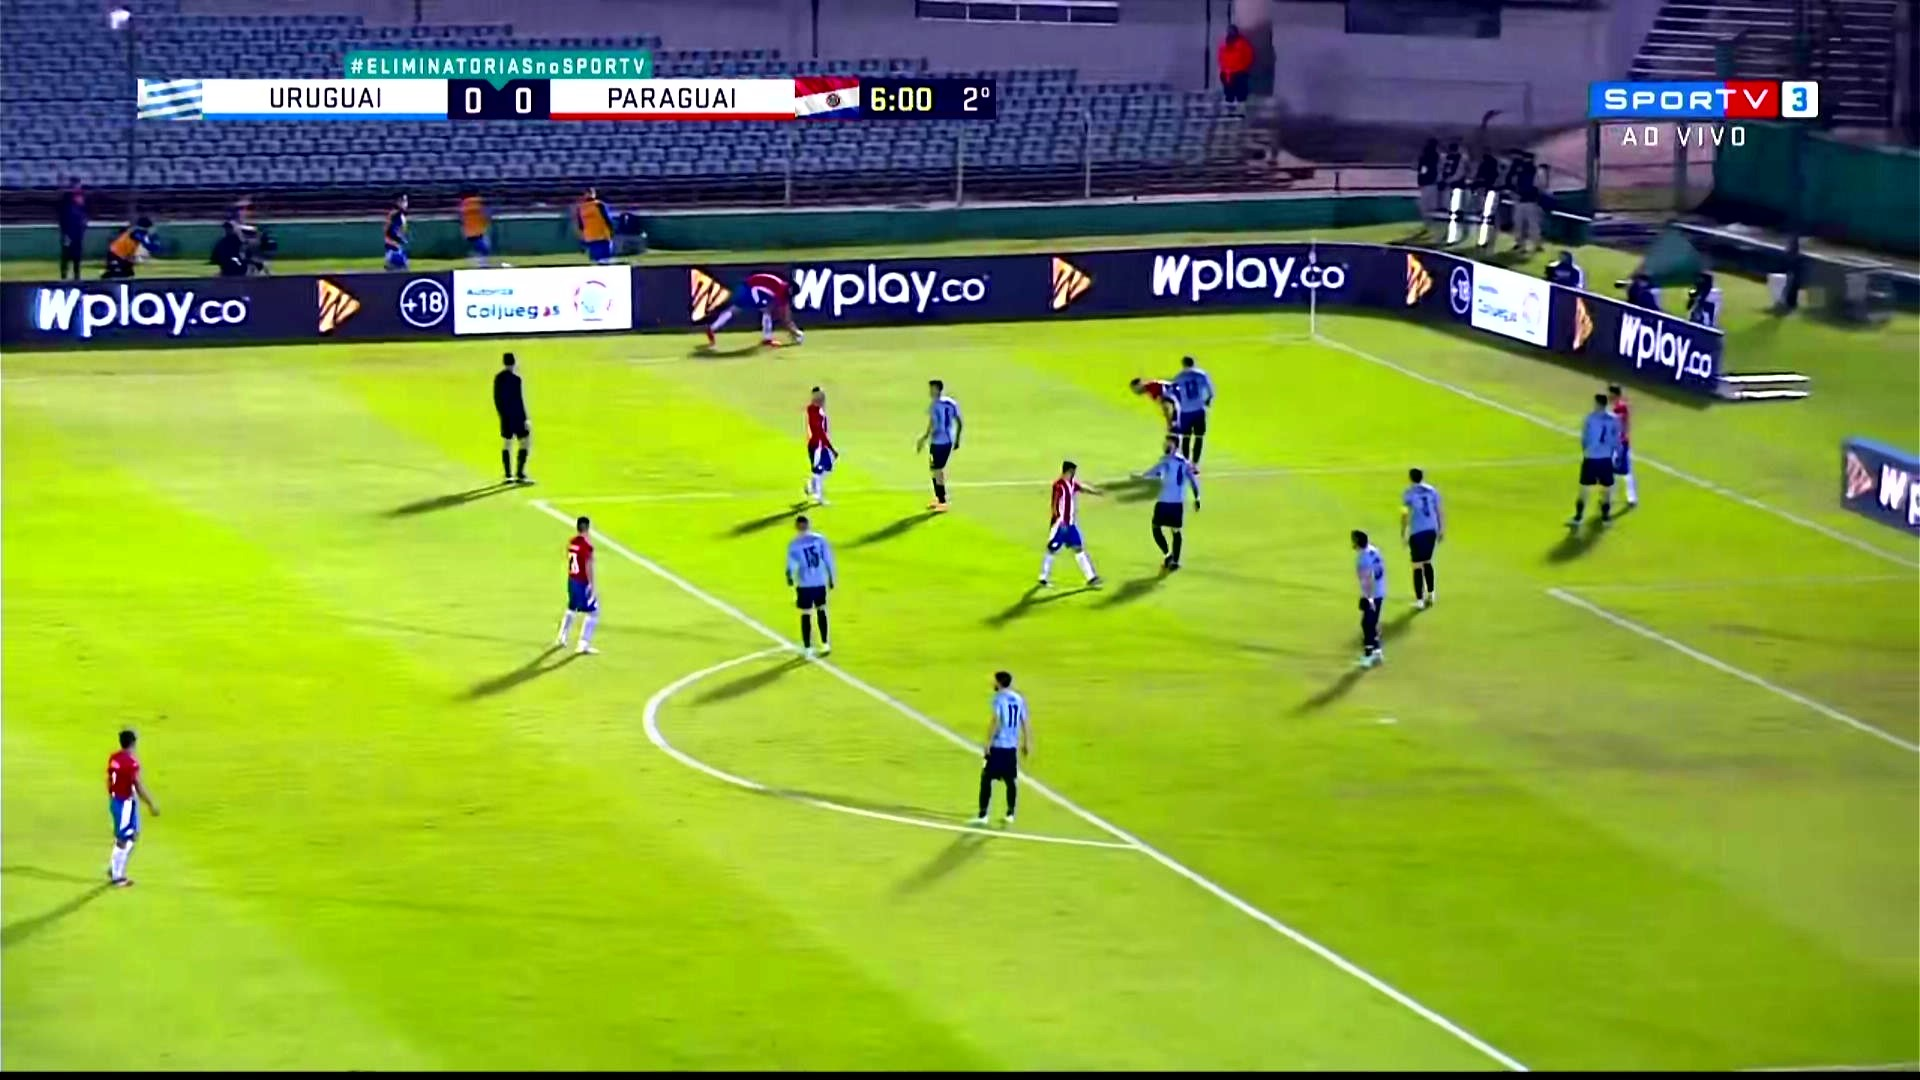SporTV3: (1586, 83, 1821, 121)
